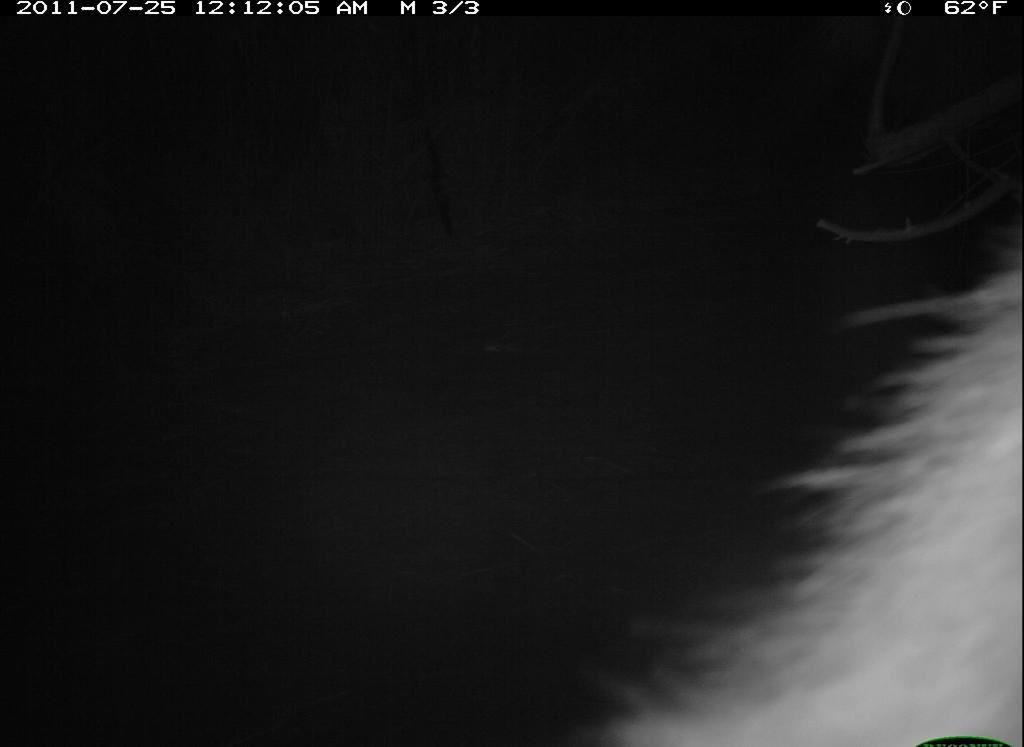raccoon: (587, 230, 1023, 720)
